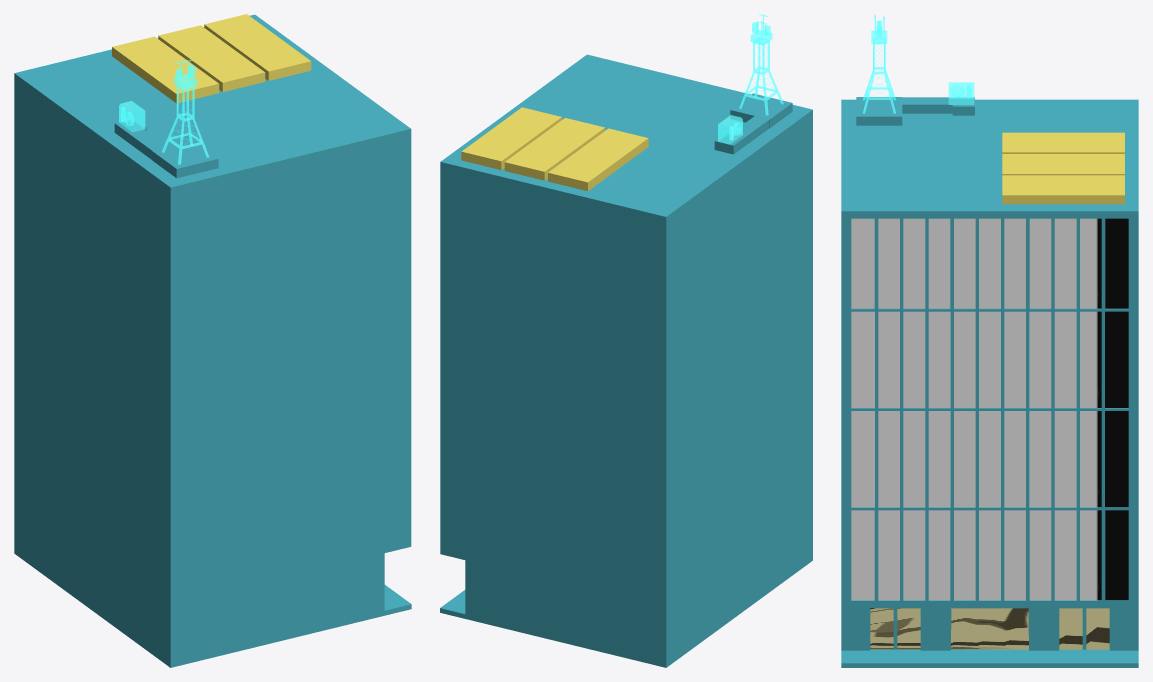
Rendered from businessBuilding_Geo.fbx.
3 views of the same model, side by side, from view 1: azimuth 30°, elevation 25°; view 2: azimuth 150°, elevation 25°; view 3: azimuth 270°, elevation 25° (orthographic). The views are drawn at different scales.
Visible parts, largest first — view 1: businessBuilding; view 2: businessBuilding; view 3: businessBuilding.
Part boxes in pixels (box(x1,y1,x2,y2)): businessBuilding: box(14, 14, 411, 667); businessBuilding: box(440, 14, 812, 667); businessBuilding: box(841, 14, 1138, 667).
Size of the model in its own units: 1477 by 3432 by 1659.
